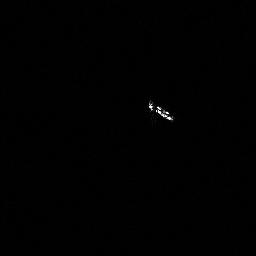ship: (144, 95, 178, 124)
